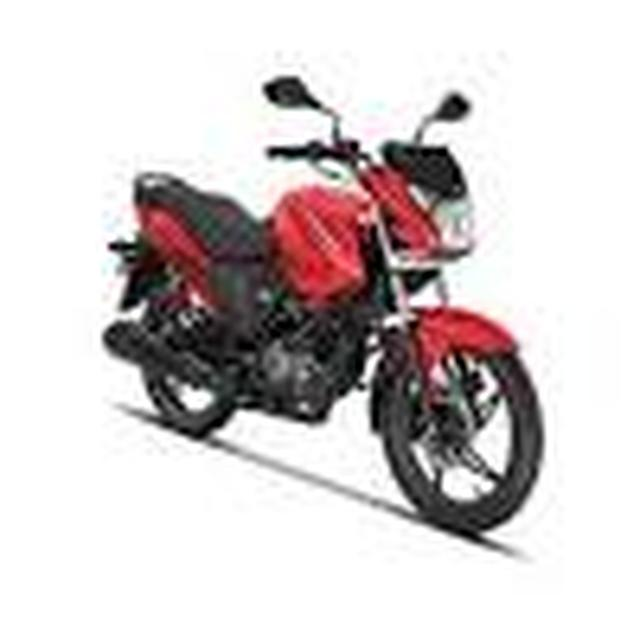motorcycle: (105, 75, 547, 542)
